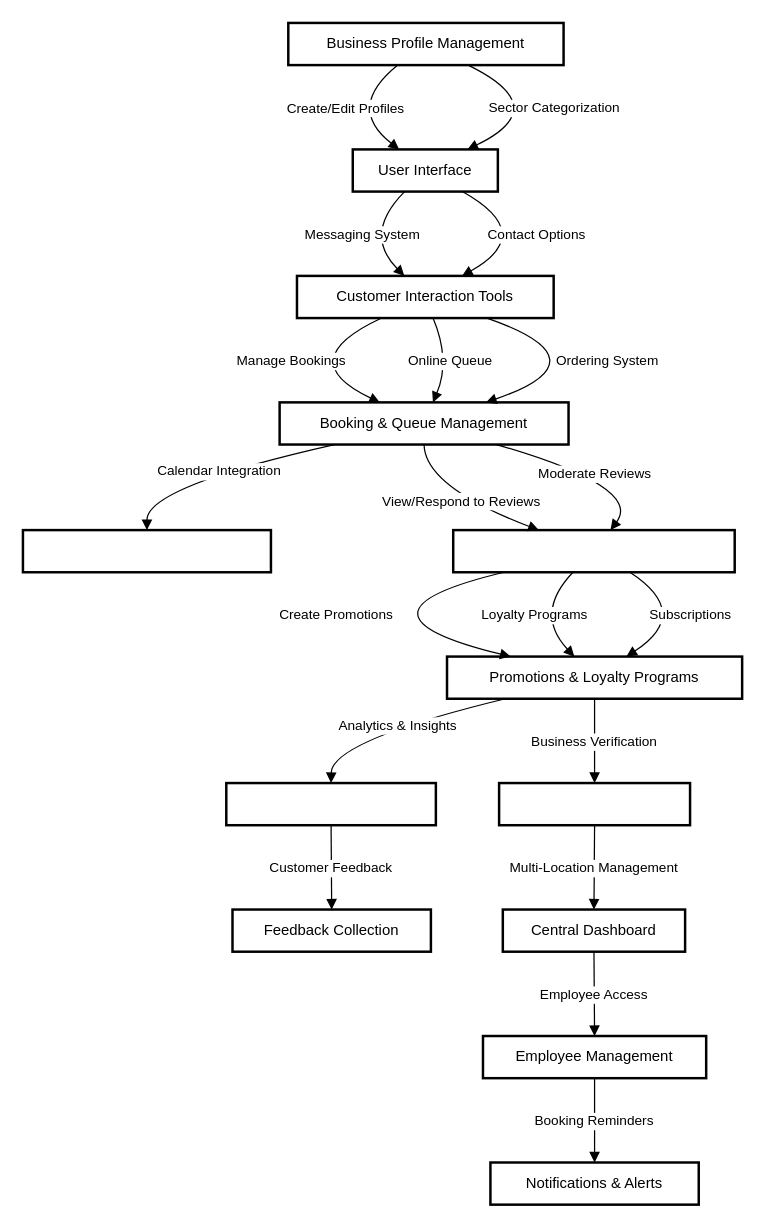
Some shapes in this 764 by 1226 pixel diagram are drawn without their labels. The shapes that lost their labels are listed below. From the top down, each one's centre as x and y in pixels, then its label:
At point 146,550: "External Calendar Service".
At point 593,550: "Review & Rating Management".
At point 330,803: "Analytics & Reporting".
At point 594,803: "Verification Service".
